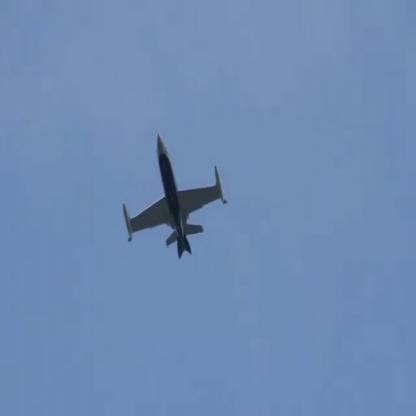CIV_Plane: (121, 133, 230, 259)
